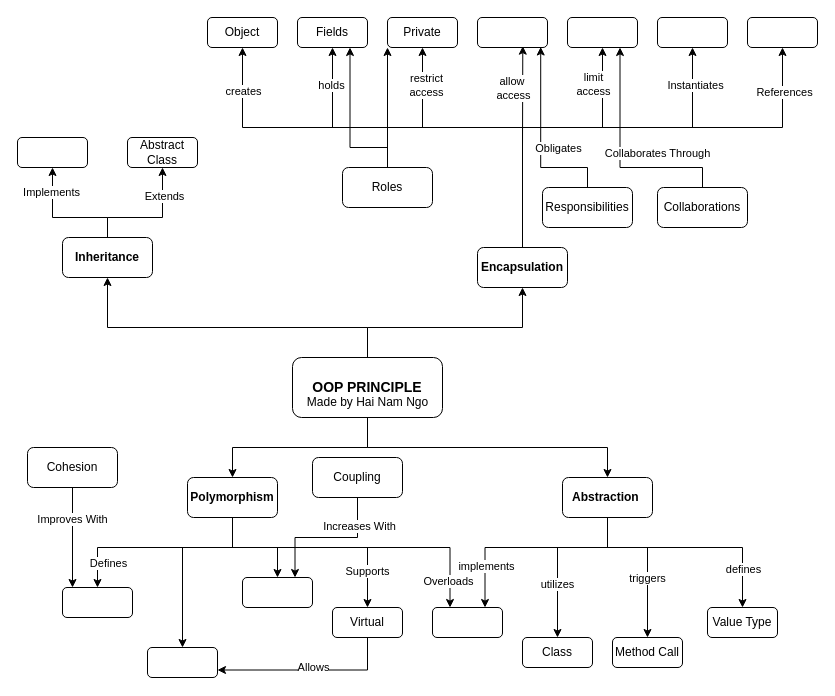
Image size: 835x696. Some labels were removed from this diagram. Each missing label, with the centre of its shape:
"Abstract Methods" goes at point (182, 662).
"Interface" goes at point (52, 152).
"Method" goes at point (467, 622).
"New" goes at point (692, 32).
"Overload" goes at point (277, 592).
"Override" goes at point (97, 602).
"Protected" goes at point (602, 32).
"Public" goes at point (512, 32).
"Reference Type" goes at point (782, 32).
